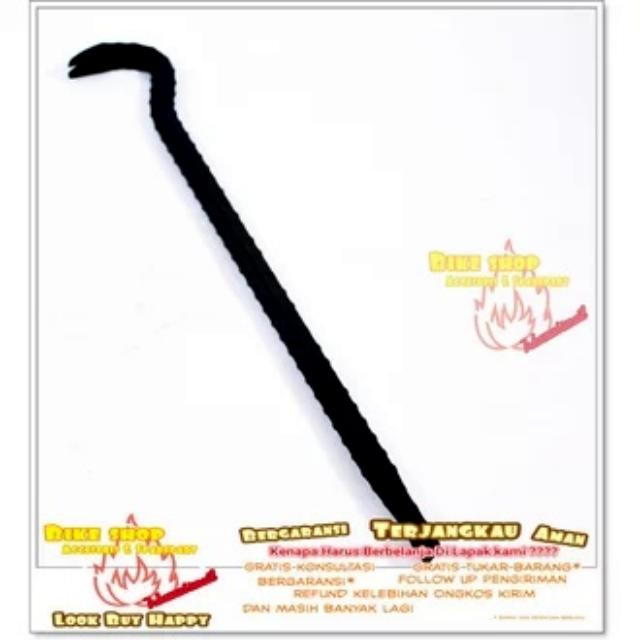crow bar: (64, 36, 418, 522)
